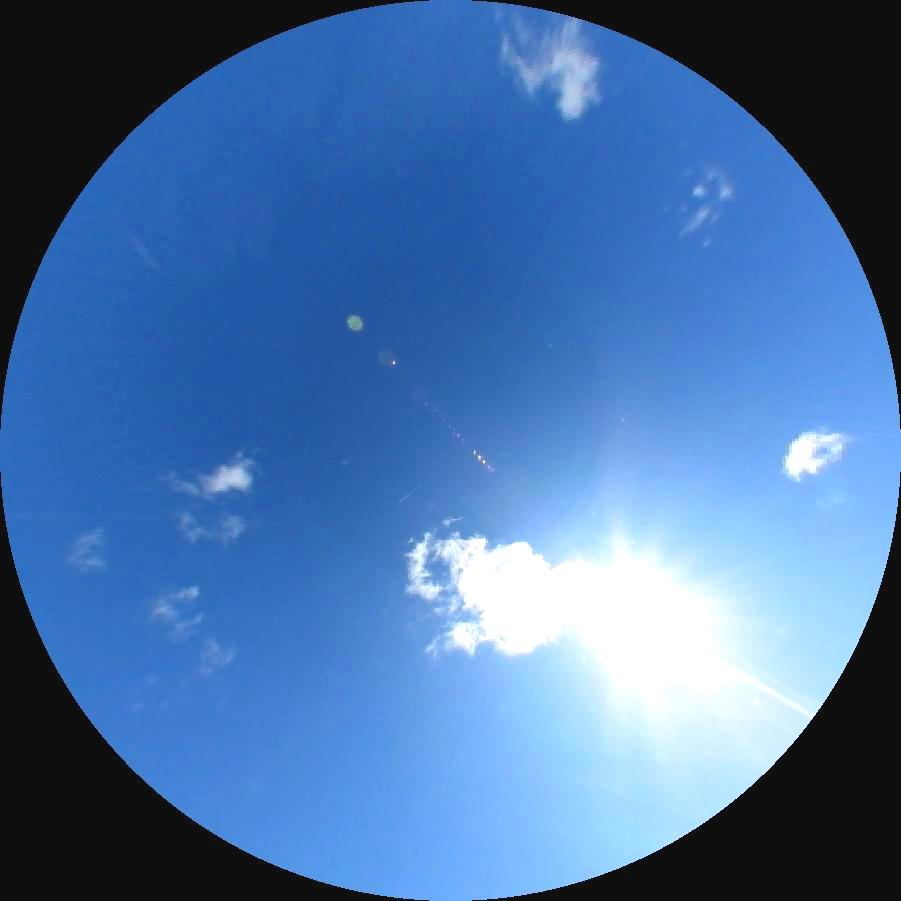contrail young: (397, 480, 428, 505)
parasite: (688, 644, 817, 720), (4, 509, 298, 526)
sun: (554, 536, 717, 700)
unknow: (123, 228, 162, 277)
